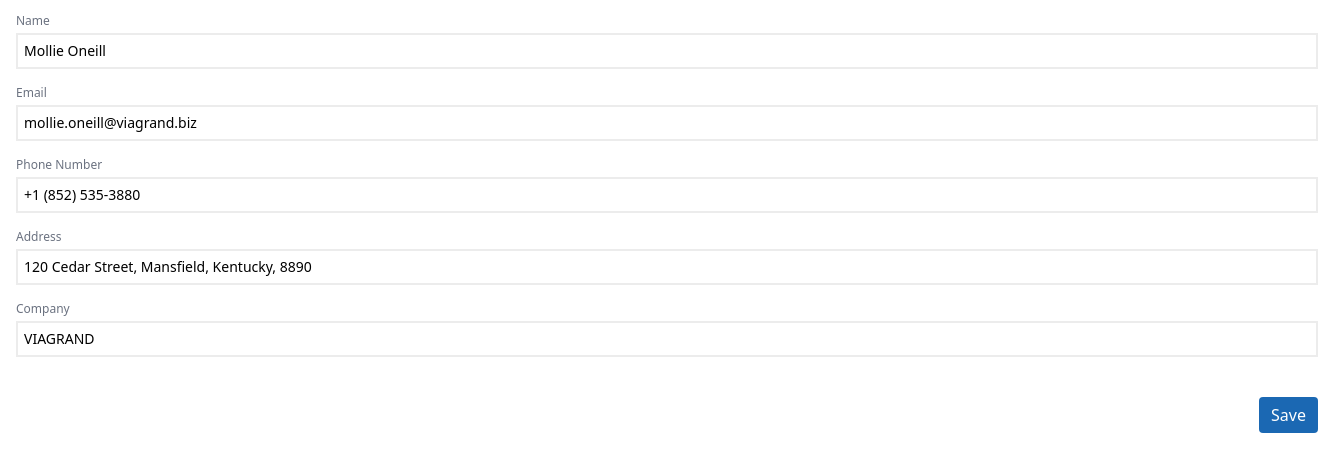
UserForm › When you edit a users data          1.The Save button should be enabled         2.The Cancel button should appear
Check: the button "Save" is disabled, box left=1259, top=397, right=1318, bottom=433
Check: the text "Cancel" is not shown
# User Edits
Replace the text in the field labelled "Name" with "Mollie Oneilla". click: (667, 51)
box: left=16, top=33, right=1318, bottom=69
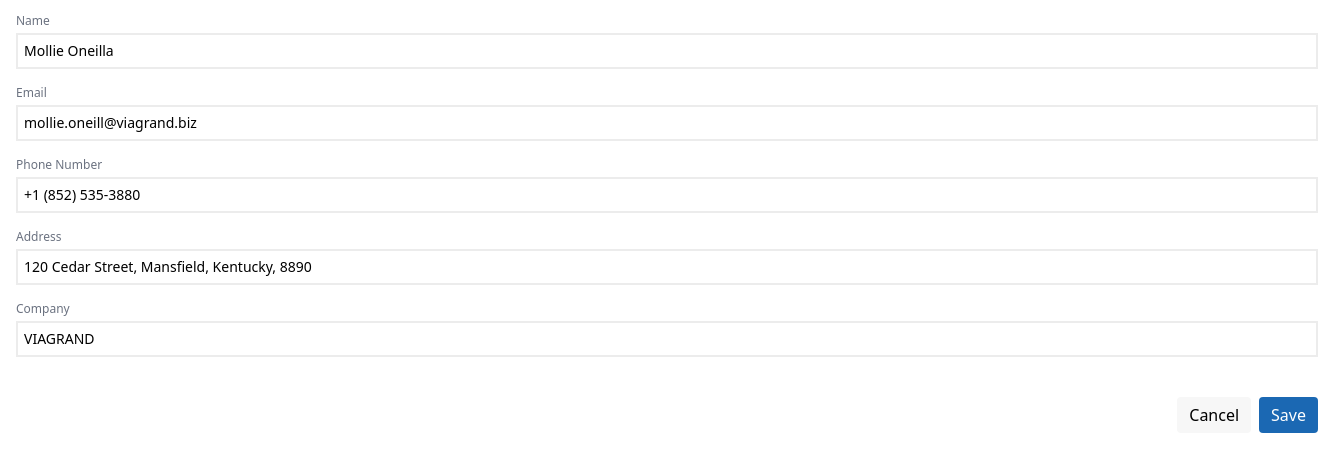
Check: the button "Save" is enabled, box left=1259, top=397, right=1318, bottom=433
Check: the button "Cancel" is shown, box left=1177, top=397, right=1251, bottom=433
